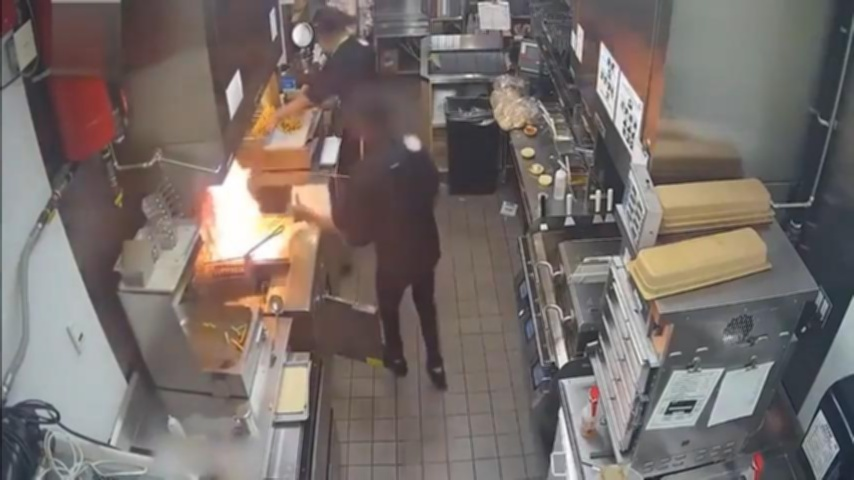fire: (194, 148, 296, 273)
